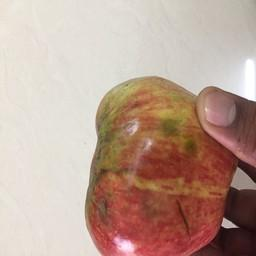Bad_apple: (83, 74, 230, 256)
